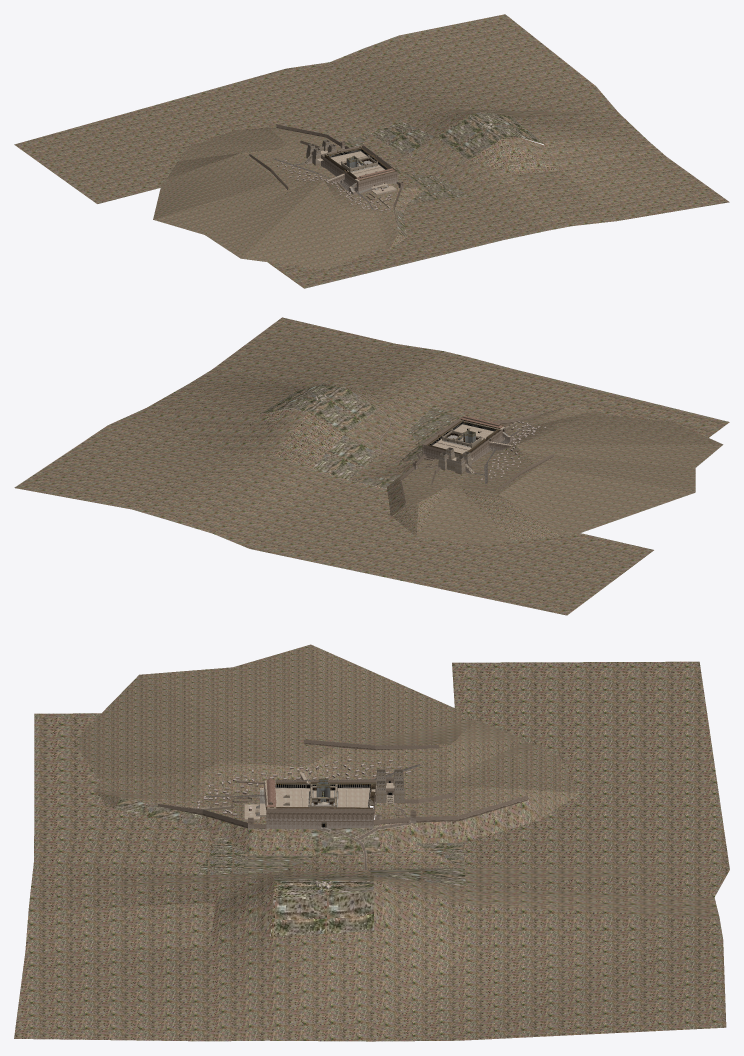
Rendered from temple.obj.
3 renders of one model, top to bottom at view 1: azimuth 30°, elevation 25°; view 2: azimuth 150°, elevation 25°; view 3: azimuth 270°, elevation 25°, orthographic. The views are drawn at different scales.
Parts seen in each view (by area): view 1: surface.002, surface.001, surface.003, wall.004, surface_level1.005; view 2: surface.002, surface.001, surface.003, wall.004, wall.007, surface_level1.005; view 3: surface.002, surface.001, surface.003, wall.004, surface_level1.005, houseswestwall, wall.007.
Boxes of the visible parts, <box> form: surface.002: <box>14,14,729,288</box>; surface.001: <box>153,128,406,269</box>; surface.003: <box>339,112,545,237</box>; wall.004: <box>249,124,403,221</box>; surface_level1.005: <box>317,150,396,193</box>; surface.002: <box>14,317,729,615</box>; surface.001: <box>393,407,723,544</box>; surface.003: <box>261,383,563,488</box>; wall.004: <box>400,413,553,506</box>; wall.007: <box>438,447,471,474</box>; surface_level1.005: <box>433,424,513,464</box>; surface.002: <box>14,661,729,1041</box>; surface.001: <box>75,644,579,828</box>; surface.003: <box>114,798,465,936</box>; wall.004: <box>158,739,527,830</box>; surface_level1.005: <box>244,772,394,819</box>; houseswestwall: <box>197,759,411,815</box>; wall.007: <box>255,769,404,814</box>.
Size of the model in its own units: 216 by 15.6 by 177.
39 materials, 39 textured.
